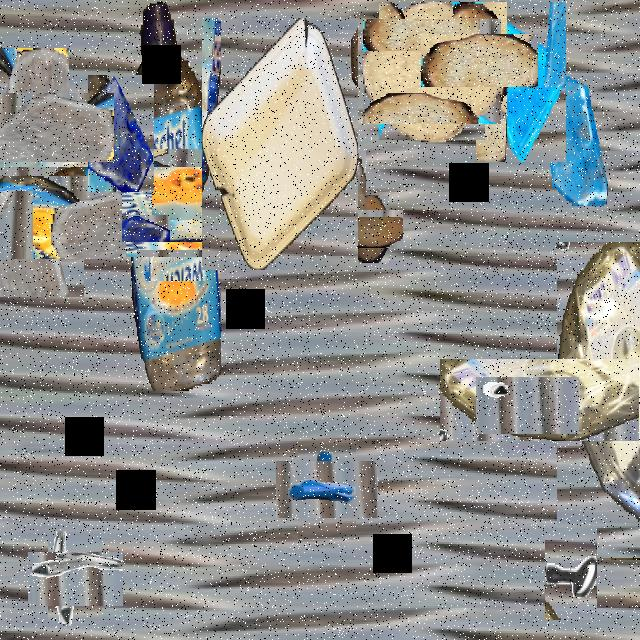glass: (476, 2, 566, 162), (0, 70, 91, 185), (538, 76, 610, 205), (88, 75, 154, 192)
metal: (137, 186, 221, 269), (488, 365, 568, 446), (287, 449, 367, 529), (38, 542, 112, 617), (545, 528, 597, 620), (50, 178, 90, 249)
plastic: (53, 75, 293, 316), (202, 18, 358, 270), (498, 300, 640, 499), (0, 156, 103, 278)
wood: (371, 10, 493, 132), (437, 18, 523, 103), (344, 203, 396, 256)
